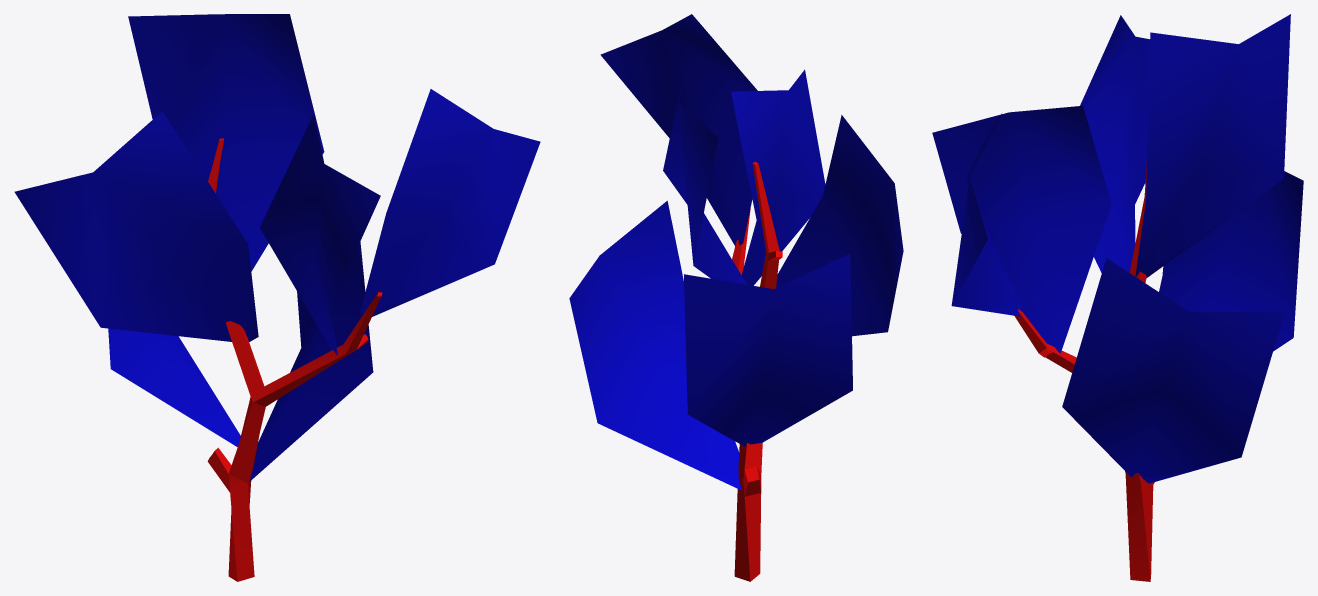
File: SM_Tree_Dead_03.fbx
3 renders of one model, left to right at view 1: azimuth 30°, elevation 25°; view 2: azimuth 150°, elevation 25°; view 3: azimuth 270°, elevation 25°, orthographic. The views are drawn at different scales.
Visible parts, largest first — view 1: SM_Tree_Dead_03; view 2: SM_Tree_Dead_03; view 3: SM_Tree_Dead_03.
Part boxes in pixels (bbox=[...]): SM_Tree_Dead_03: bbox=[14, 14, 540, 581]; SM_Tree_Dead_03: bbox=[569, 14, 903, 581]; SM_Tree_Dead_03: bbox=[932, 14, 1303, 581].
Size of the model in its own units: 99.04 by 123 by 72.31.
